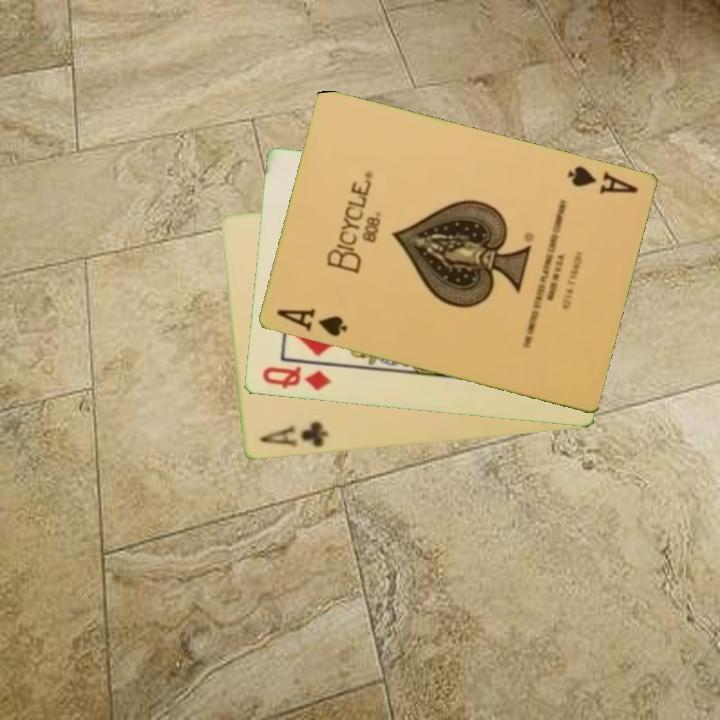Ac: (255, 418, 331, 451)
As: (564, 162, 641, 198), (272, 305, 350, 340)
Qd: (258, 362, 334, 394)
